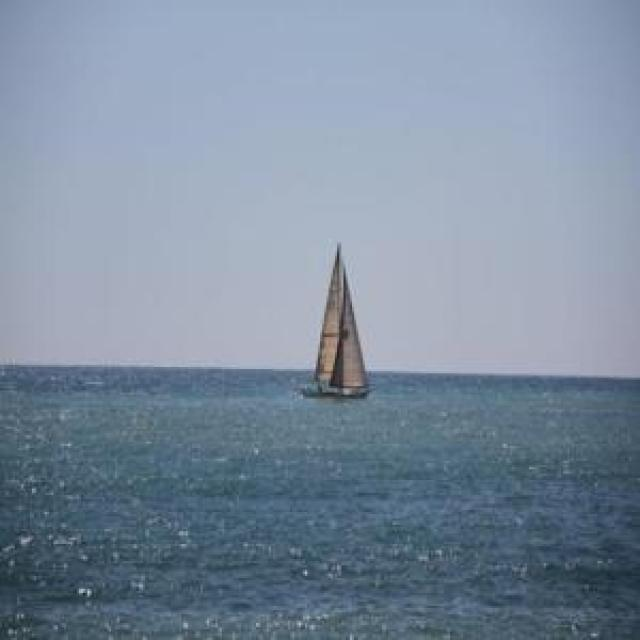sailboat: (300, 238, 379, 398)
